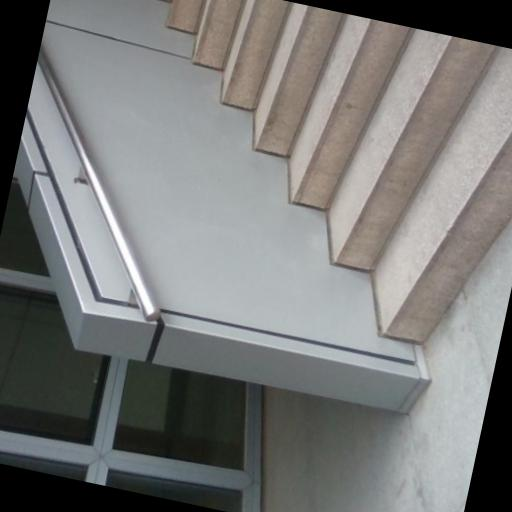stairs: (164, 0, 511, 341)
